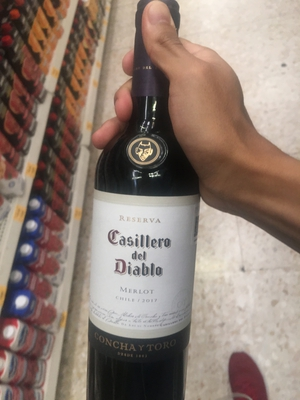casillero del diablo merlot: (85, 8, 213, 400)
